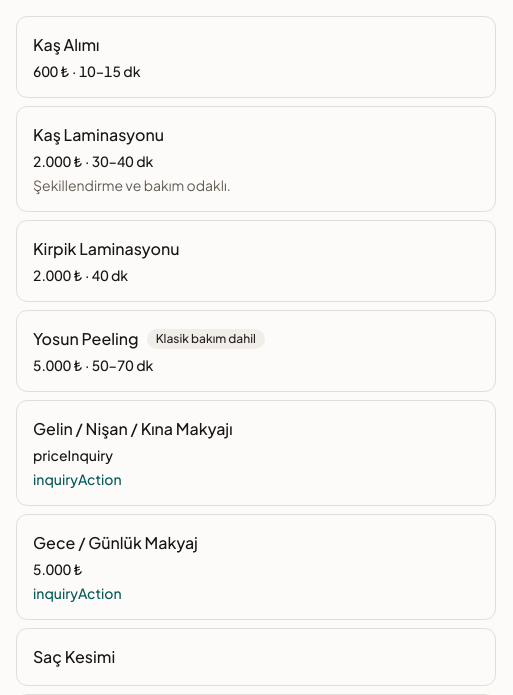
Test case: progressive information and the unchanged simple flow › Yosun Peeling: the salon's badge, its wording, and the general skin note appear on the information panel only
This screenshot has width=513, height=695.
(page scrolled)
Click the button with test id "service-card" at (256, 351), box [16, 310, 496, 392]
(page scrolled)
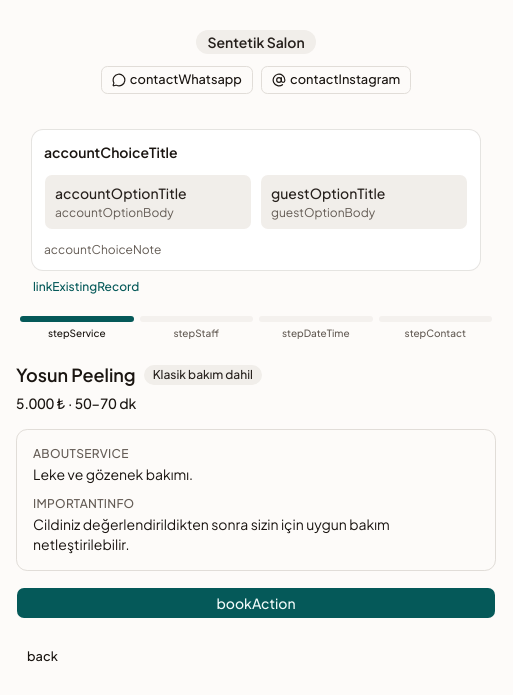
Expected: the text "Leke ve gözenek bakımı." is shown, [33, 465, 193, 483]
Expected: the text "Cildiniz değerlendirildikten sonra sizin için uygun bakım netleştirilebilir." is shown, [33, 515, 390, 553]
Expected: the text "aboutService" is shown, [33, 446, 129, 461]
